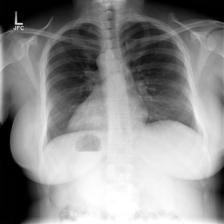normal: (39, 16, 206, 148)
